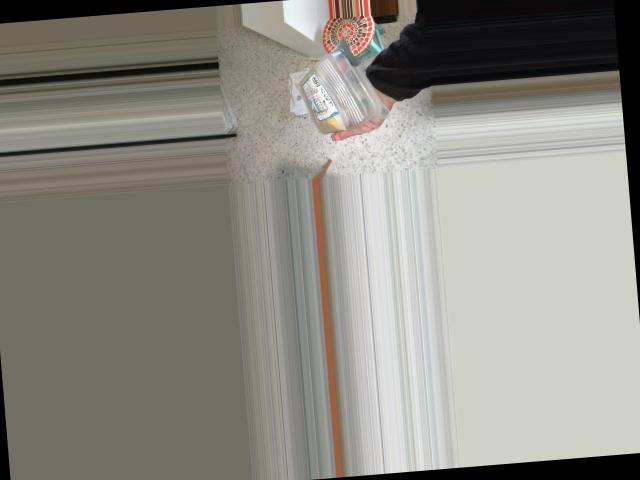cheese: (277, 31, 390, 135)
